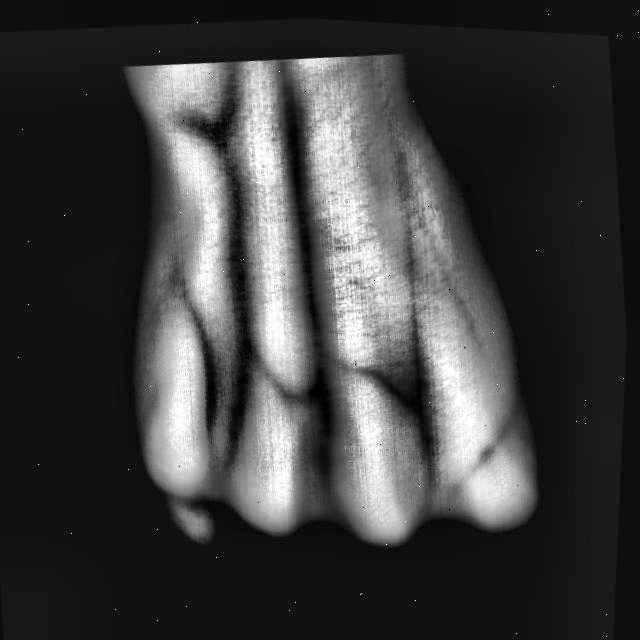Vein: (274, 79, 331, 332), (212, 151, 255, 327)
